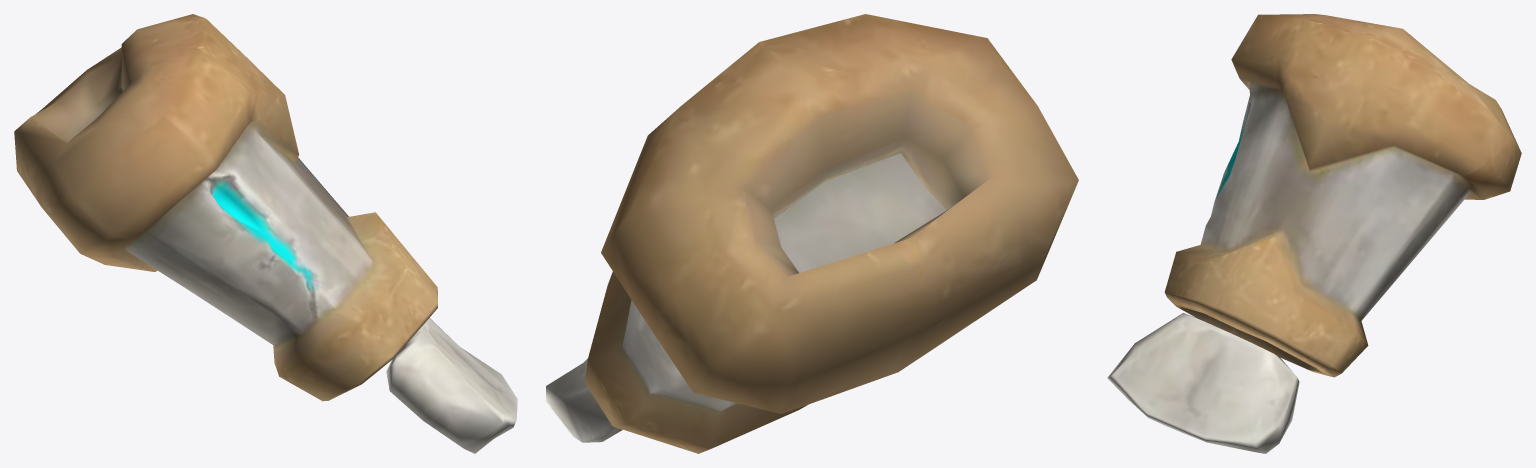
3 renders of one model, left to right at view 1: azimuth 30°, elevation 25°; view 2: azimuth 150°, elevation 25°; view 3: azimuth 270°, elevation 25°, orthographic. The views are drawn at different scales.
Parts seen in each view (by area): view 1: SM_Vault_Guardian_Melee_01_Parts_SM_VaultGuardian_Melee_L_Fo; view 2: SM_Vault_Guardian_Melee_01_Parts_SM_VaultGuardian_Melee_L_Fo; view 3: SM_Vault_Guardian_Melee_01_Parts_SM_VaultGuardian_Melee_L_Fo.
Boxes of the visible parts, x1=… form: SM_Vault_Guardian_Melee_01_Parts_SM_VaultGuardian_Melee_L_Fo: x1=14, y1=14, x2=517, y2=453; SM_Vault_Guardian_Melee_01_Parts_SM_VaultGuardian_Melee_L_Fo: x1=546, y1=14, x2=1078, y2=453; SM_Vault_Guardian_Melee_01_Parts_SM_VaultGuardian_Melee_L_Fo: x1=1107, y1=14, x2=1521, y2=453.
Bounding box in the file's own units: 0.746 × 0.6766 × 0.7536.
Materials: 1 (1 with a texture image).
